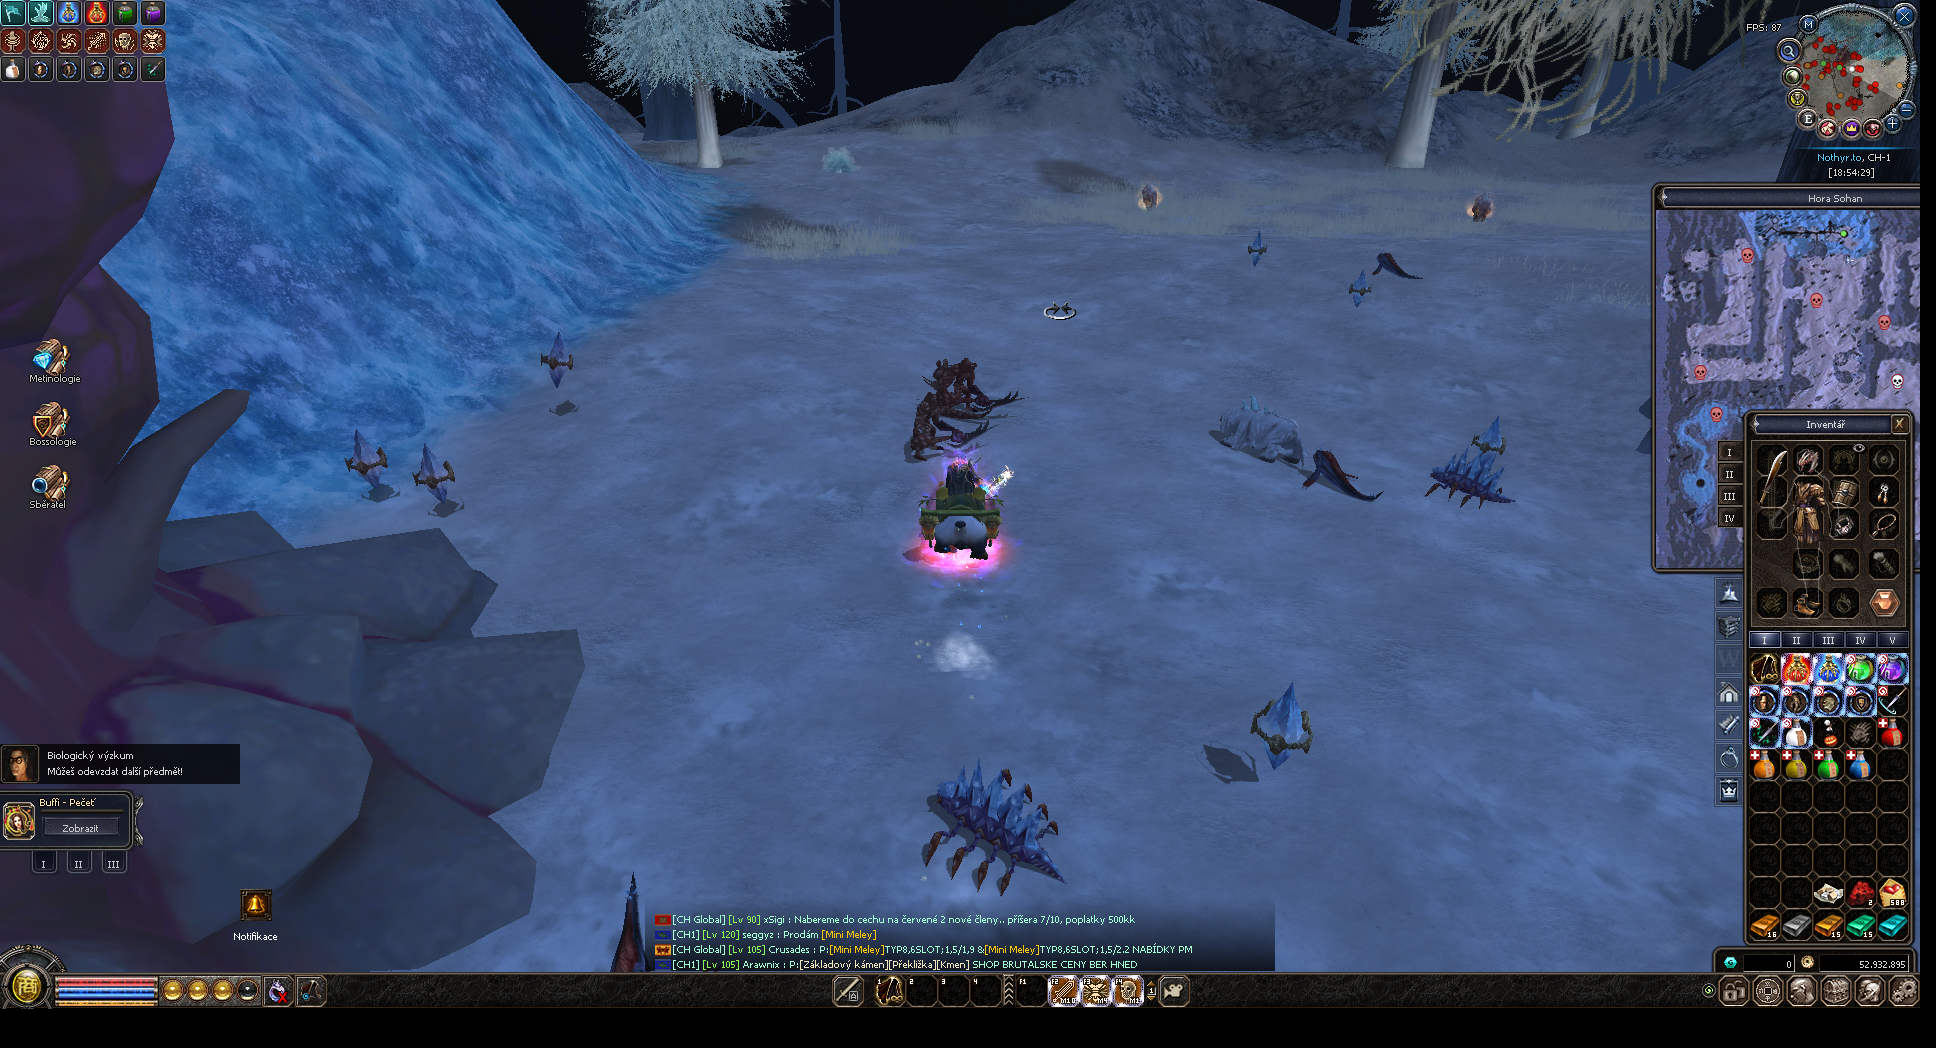Buff: (1467, 191, 1495, 223), (1140, 182, 1162, 213)
Enemy: (923, 761, 1066, 894), (906, 358, 1023, 461), (1425, 418, 1515, 507), (924, 358, 1025, 421), (1218, 395, 1307, 466), (907, 392, 991, 461), (1251, 683, 1313, 769), (1302, 449, 1382, 502), (345, 431, 388, 489), (413, 445, 456, 503), (539, 332, 576, 388), (1372, 253, 1424, 280), (1347, 270, 1373, 307), (1248, 230, 1267, 268)
Me: (920, 459, 1002, 560)
